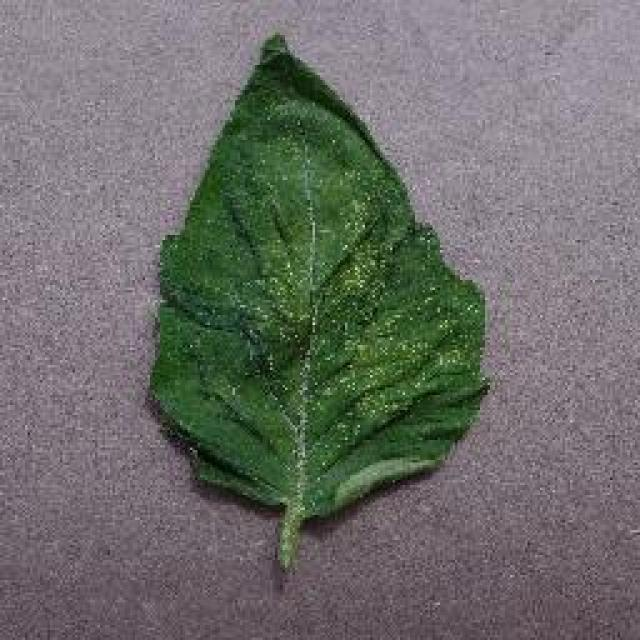Tomato spider mites leaf: (145, 32, 485, 520)
